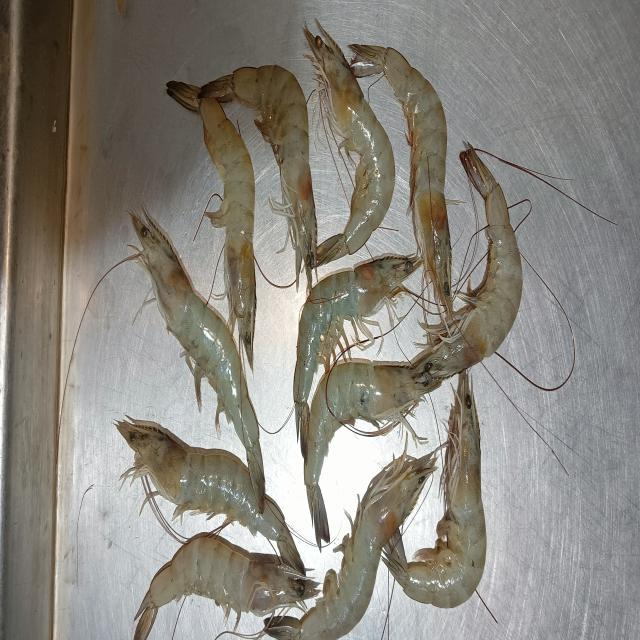shrimp: (130, 213, 266, 502), (115, 418, 301, 573), (180, 64, 315, 263), (413, 146, 522, 386), (264, 472, 406, 639), (386, 371, 486, 606), (349, 44, 447, 282), (305, 25, 394, 266), (305, 361, 426, 531), (295, 256, 421, 414), (134, 535, 315, 639), (199, 97, 256, 367)
